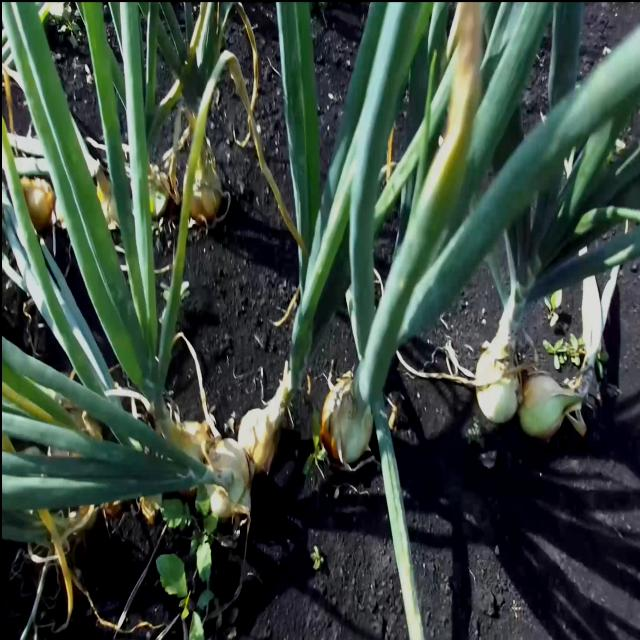onion: (320, 363, 374, 469), (518, 372, 587, 443), (205, 438, 251, 529), (475, 347, 521, 425), (242, 406, 280, 468), (20, 175, 56, 233), (186, 164, 220, 216)
